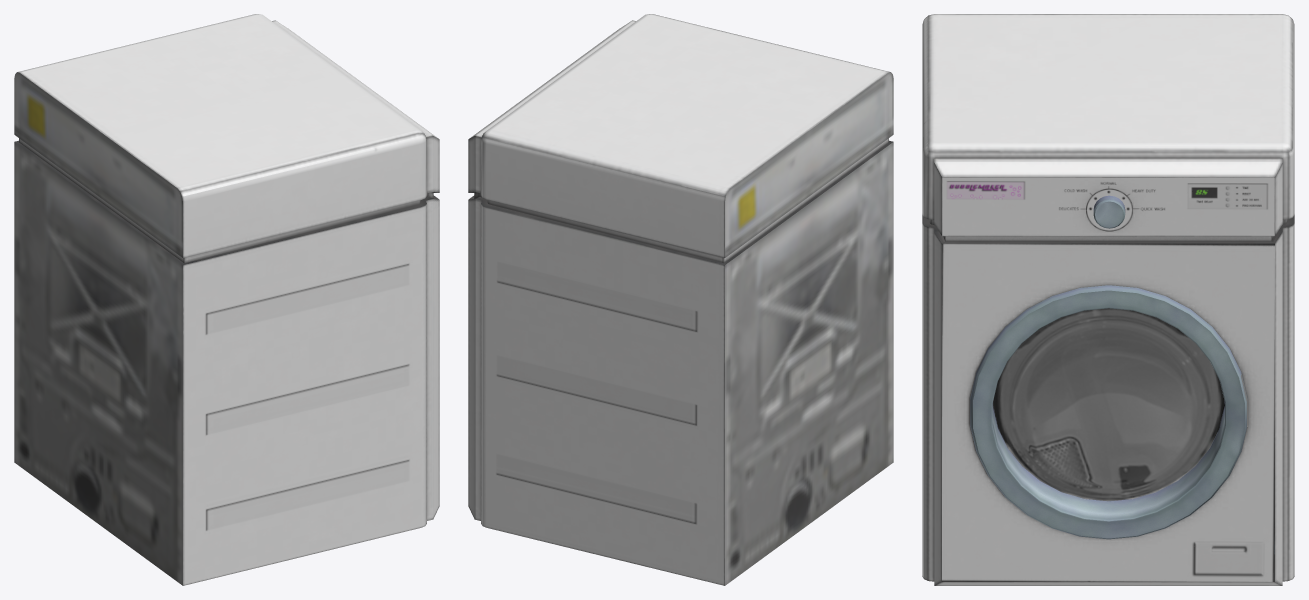
Rendered from maquina_de_lavar.glb.
3 views of the same model, side by side, from view 1: azimuth 30°, elevation 25°; view 2: azimuth 150°, elevation 25°; view 3: azimuth 270°, elevation 25° (orthographic). The views are drawn at different scales.
Parts seen in each view (by area): view 1: pCylinder4; view 2: pCylinder4; view 3: pCylinder4.
Boxes of the visible parts, bbox=[...] form: pCylinder4: bbox=[14, 14, 439, 585]; pCylinder4: bbox=[468, 14, 893, 585]; pCylinder4: bbox=[922, 14, 1294, 585].
Bounding box in the file's own units: 557 × 764 × 593.
1 material, 1 textured.
